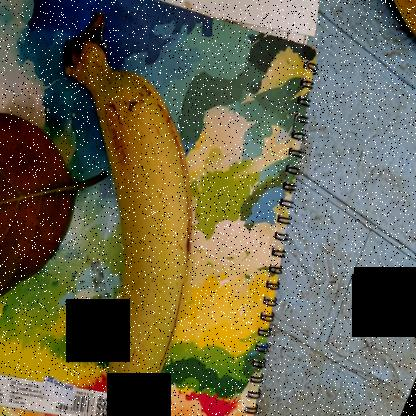ripe: (81, 67, 205, 405)
